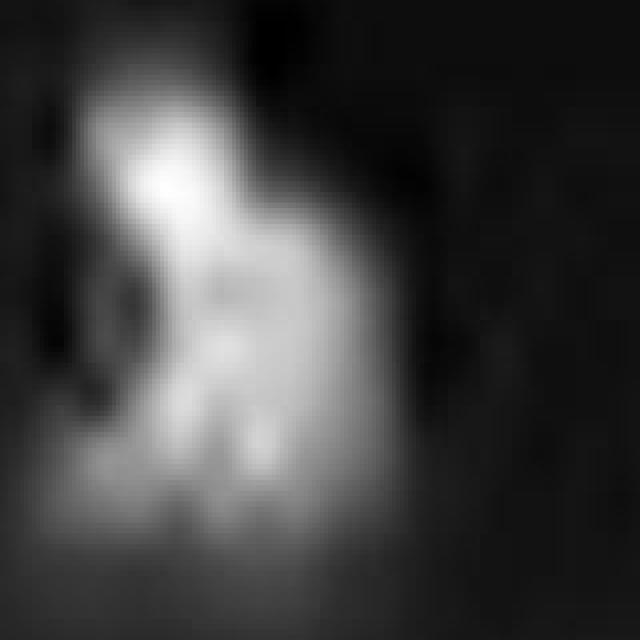person: (66, 73, 411, 563)
